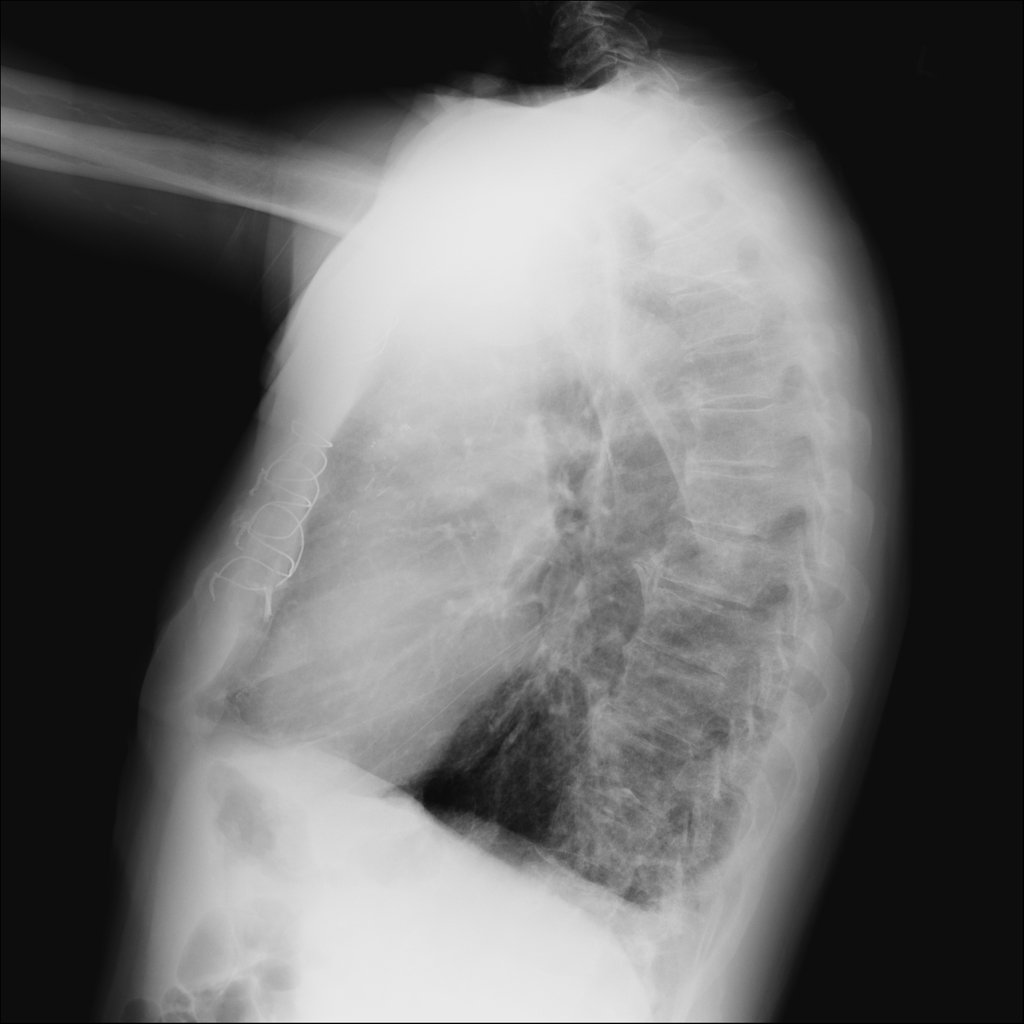cancer: (335, 103, 895, 834)
